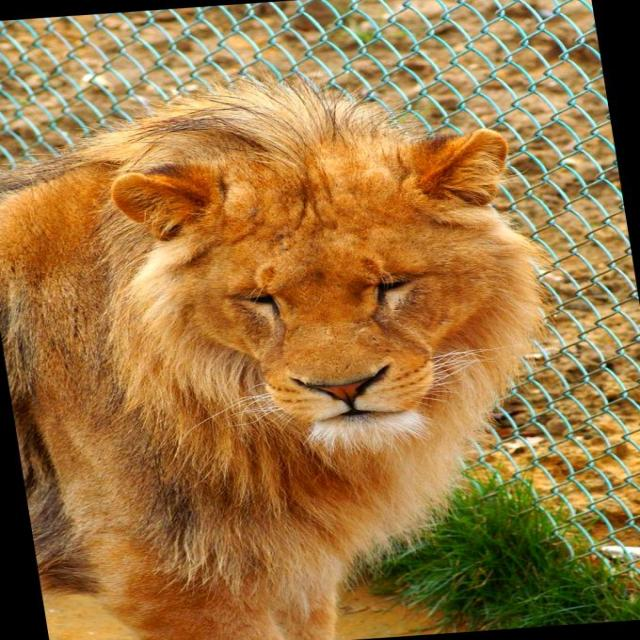Lion: (0, 59, 608, 639)
